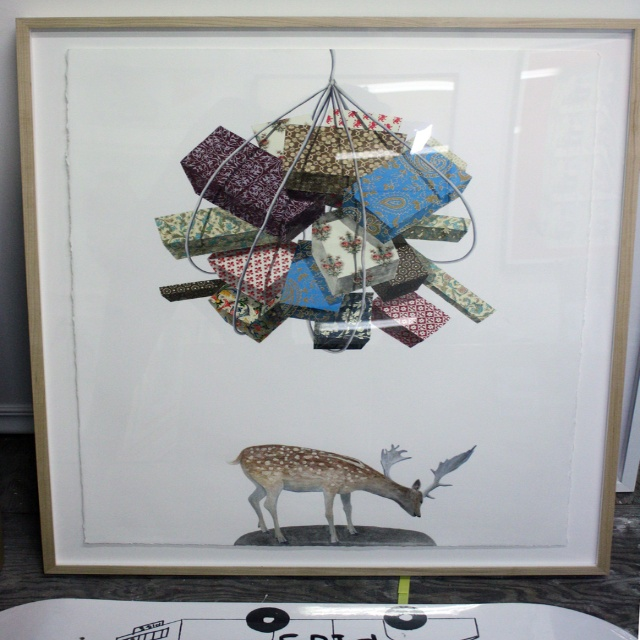Deer: (228, 441, 477, 545)
